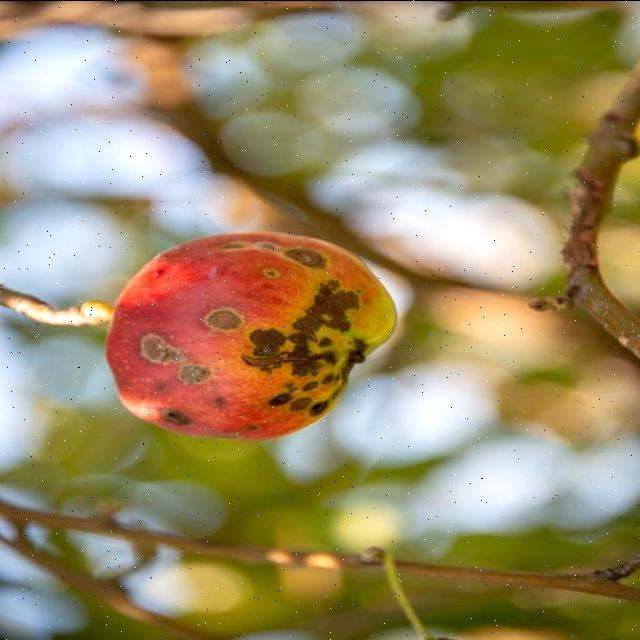SCAB: (89, 226, 402, 464)
